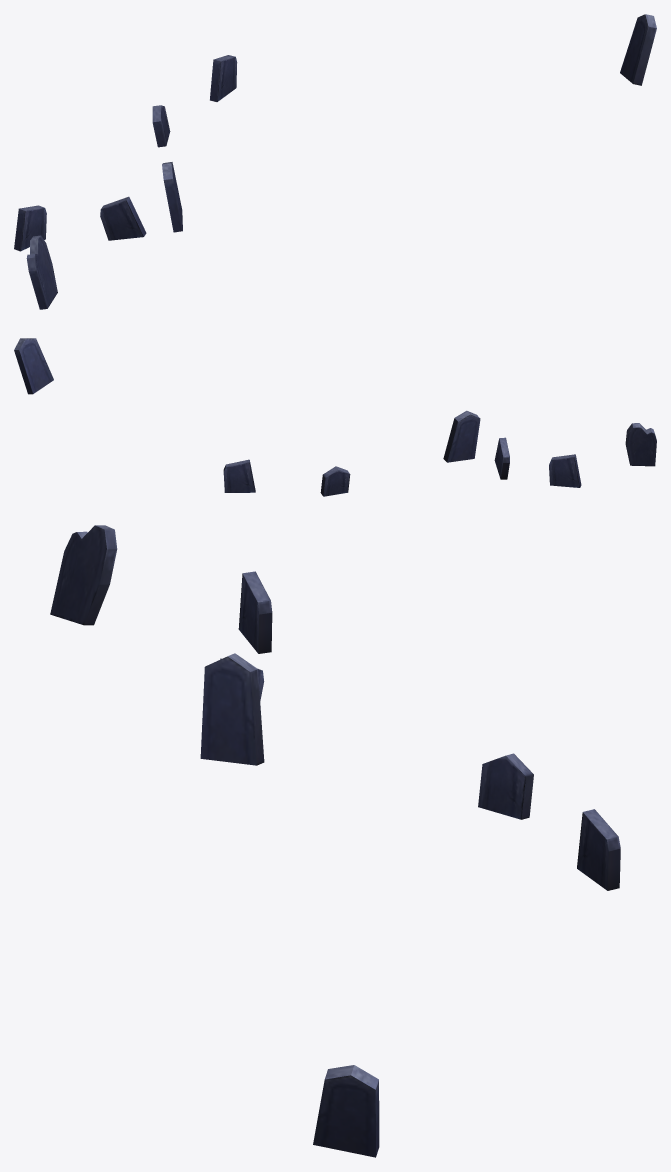
Rendered from Area14_16.fbx.
3 views of the same model, one above another, from view 1: azimuth 30°, elevation 25°; view 2: azimuth 150°, elevation 25°; view 3: azimuth 270°, elevation 25° (orthographic). The views are drawn at different scales.
Parts seen in each view (by area): view 1: Area14_16; view 2: Area14_16; view 3: Area14_16.
Boxes of the visible parts, x1,y1,x2,y2 form: Area14_16: [14, 14, 656, 309]; Area14_16: [14, 338, 656, 496]; Area14_16: [50, 525, 620, 1157].
Bounding box in the file's own units: 3414 × 314 × 1486.
